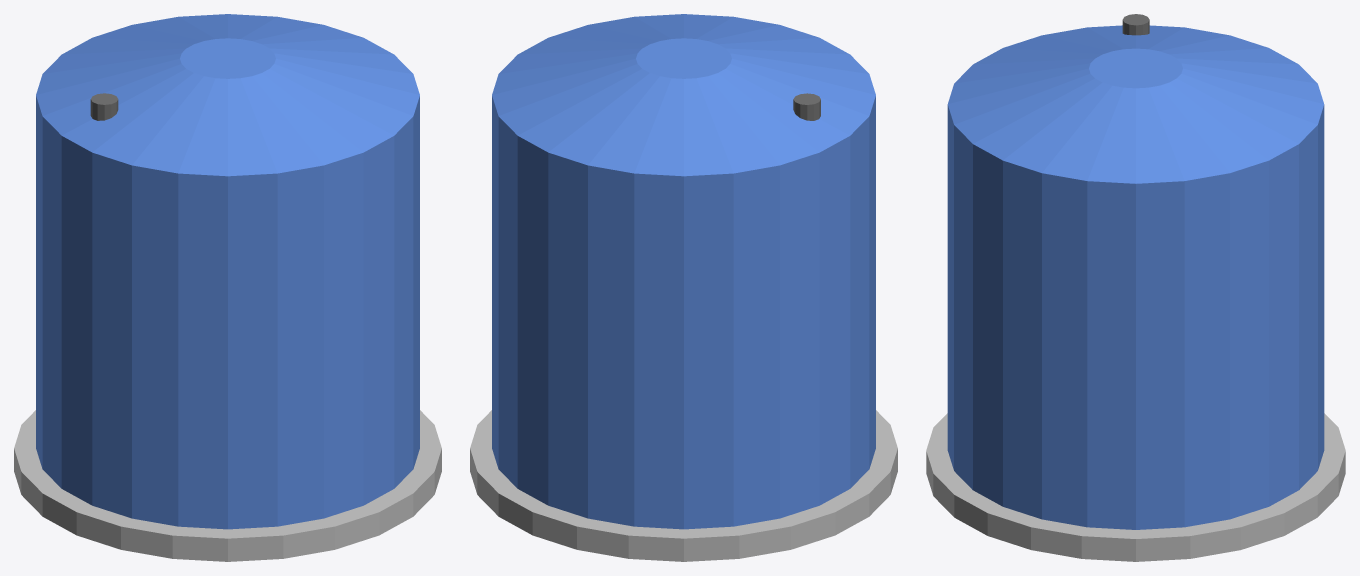
The model's file is Prop_Industrial_Vat_Tank_Round_Cylinder_01.FBX.
3 views of the same model, side by side, from view 1: azimuth 30°, elevation 25°; view 2: azimuth 150°, elevation 25°; view 3: azimuth 270°, elevation 25° (orthographic).
Visible parts, largest first — view 1: Prop_Industrial_Vat_Tank_Round_Cylinder_01; view 2: Prop_Industrial_Vat_Tank_Round_Cylinder_01; view 3: Prop_Industrial_Vat_Tank_Round_Cylinder_01.
Part boxes in pixels (bbox=[...]): Prop_Industrial_Vat_Tank_Round_Cylinder_01: bbox=[14, 14, 441, 561]; Prop_Industrial_Vat_Tank_Round_Cylinder_01: bbox=[470, 14, 897, 561]; Prop_Industrial_Vat_Tank_Round_Cylinder_01: bbox=[926, 14, 1345, 561].
Bounding box in the file's own units: 4928 × 5248 × 4928.
